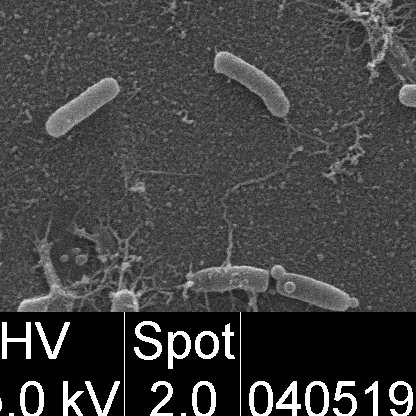cell2surface: (224, 167, 277, 264), (118, 230, 141, 289)
regular: (213, 53, 291, 117), (46, 82, 118, 141), (274, 275, 355, 310), (189, 267, 271, 291), (16, 289, 72, 311), (399, 82, 416, 108), (110, 291, 133, 310)
